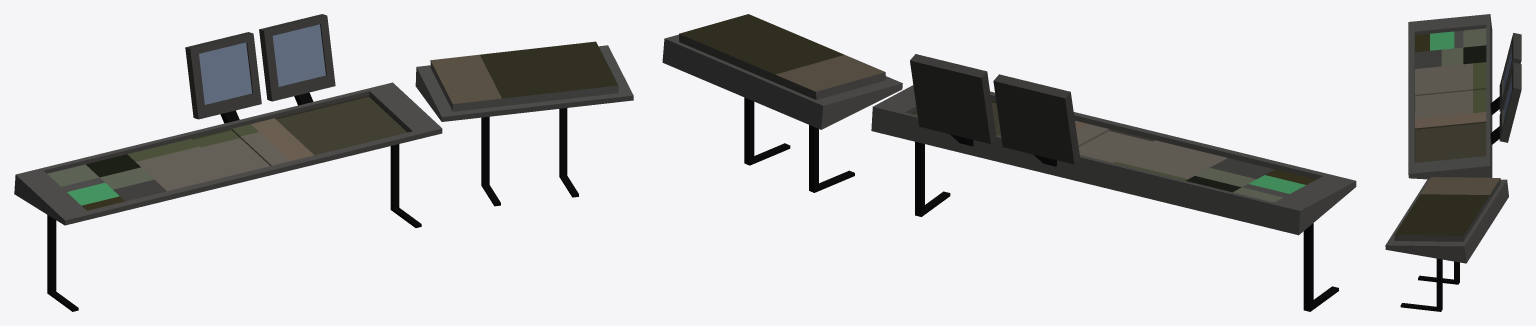
The model's file is consolesProp.fbx.
3 renders of one model, left to right at view 1: azimuth 30°, elevation 25°; view 2: azimuth 150°, elevation 25°; view 3: azimuth 270°, elevation 25°, orthographic. The views are drawn at different scales.
Visible parts, largest first — view 1: Consoles; view 2: Consoles; view 3: Consoles.
Boxes of the visible parts, x1=… form: Consoles: x1=14, y1=14, x2=633, y2=311; Consoles: x1=662, y1=14, x2=1356, y2=311; Consoles: x1=1385, y1=14, x2=1521, y2=311.
Size of the model in its own units: 9.13 by 2.66 by 2.26.
